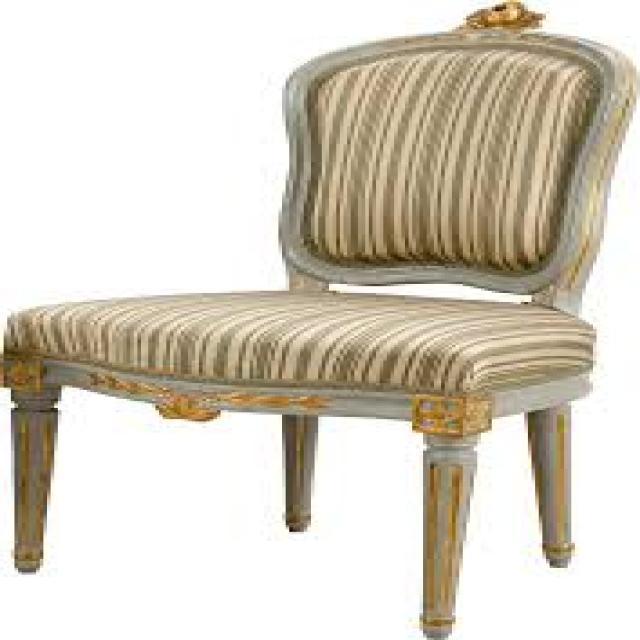chair: (8, 0, 637, 640)
